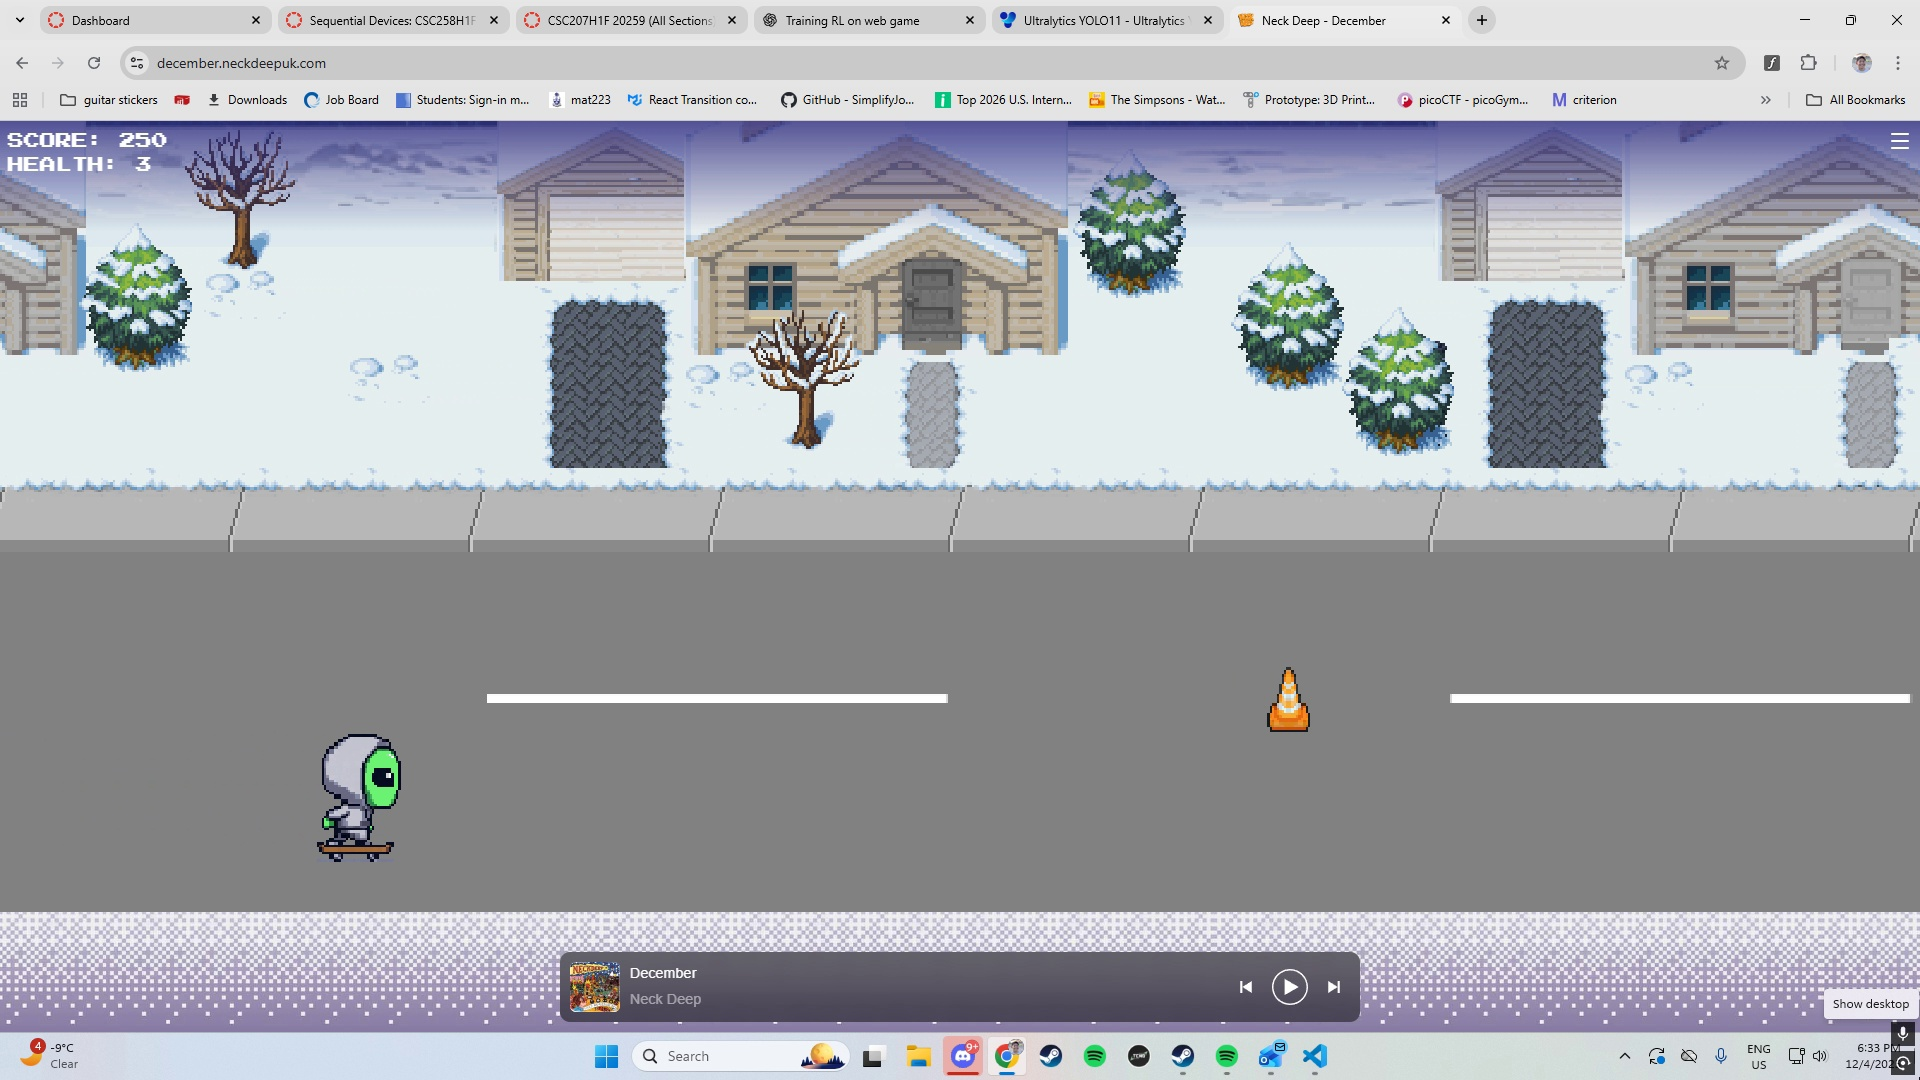Cone: (1261, 662, 1314, 736)
Player: (309, 726, 407, 874)
